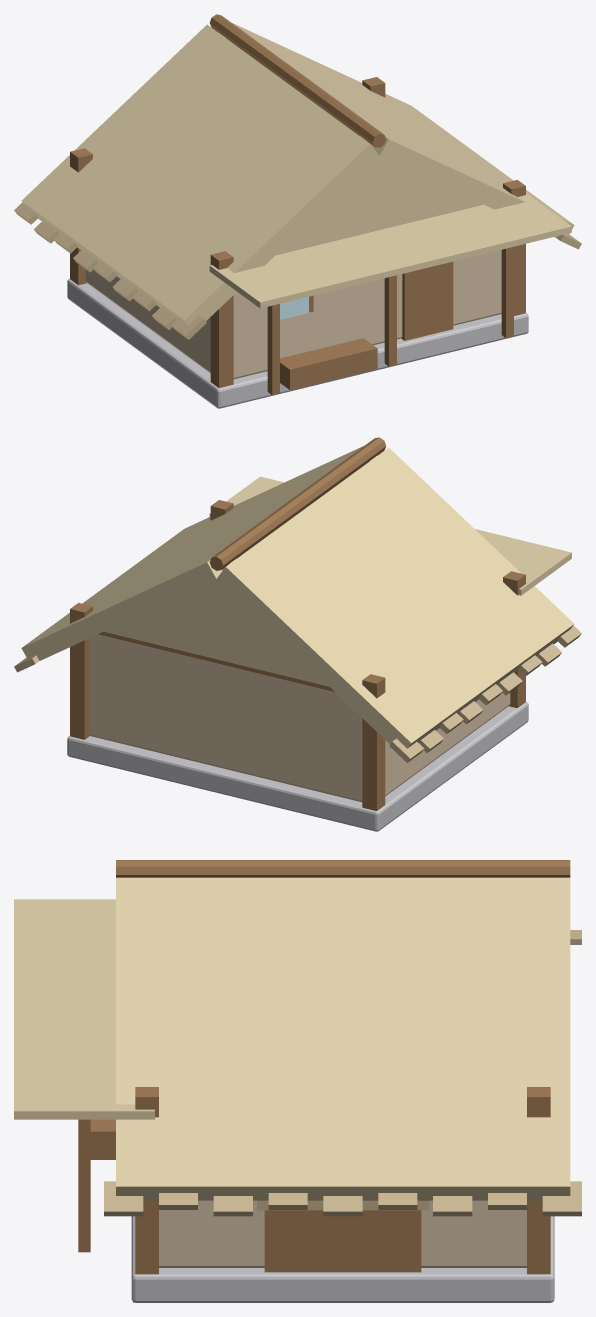
Rendered from ASTX_BUILDING_FARM.glb.
3 views of the same model, one above another, from view 1: azimuth 30°, elevation 25°; view 2: azimuth 150°, elevation 25°; view 3: azimuth 270°, elevation 25° (orthographic). The views are drawn at different scales.
Visible parts, largest first — view 1: ASTX_BUILDING_FARM_thatchL, ASTX_BUILDING_FARM_verRoof, ASTX_BUILDING_FARM_walls, ASTX_BUILDING_FARM_thatchR, ASTX_BUILDING_FARM_base, ASTX_BUILDING_FARM_gableS, ASTX_BUILDING_FARM_door, ASTX_BUILDING_FARM_ridgepole, ASTX_BUILDING_FARM_bench, ASTX_BUILDING_FARM_corner-3.02.5, ASTX_BUILDING_FARM_verPost2.4, ASTX_BUILDING_FARM_verPost0 (+3 smaller); view 2: ASTX_BUILDING_FARM_thatchL, ASTX_BUILDING_FARM_walls, ASTX_BUILDING_FARM_base, ASTX_BUILDING_FARM_thatchR, ASTX_BUILDING_FARM_gableN, ASTX_BUILDING_FARM_ridgepole, ASTX_BUILDING_FARM_verRoof, ASTX_BUILDING_FARM_corner-3.0-2.5, ASTX_BUILDING_FARM_corner3.0-2.5, ASTX_BUILDING_FARM_plateN, ASTX_BUILDING_FARM_corner-3.02.5; view 3: ASTX_BUILDING_FARM_thatchR, ASTX_BUILDING_FARM_verRoof, ASTX_BUILDING_FARM_base, ASTX_BUILDING_FARM_walls, ASTX_BUILDING_FARM_barnDoor, ASTX_BUILDING_FARM_ridgepole, ASTX_BUILDING_FARM_corner3.0-2.5, ASTX_BUILDING_FARM_corner3.02.5, ASTX_BUILDING_FARM_verPost2.4, ASTX_BUILDING_FARM_bench, ASTX_BUILDING_FARM_fringeR0, ASTX_BUILDING_FARM_fringeR8 (+8 smaller).
Boxes of the visible parts, box(x1,y1,x2,y2) form: ASTX_BUILDING_FARM_thatchL: box(21, 24, 379, 325); ASTX_BUILDING_FARM_verRoof: box(209, 193, 571, 308); ASTX_BUILDING_FARM_walls: box(85, 250, 501, 379); ASTX_BUILDING_FARM_thatchR: box(231, 22, 574, 237); ASTX_BUILDING_FARM_base: box(67, 279, 528, 408); ASTX_BUILDING_FARM_gableS: box(275, 136, 483, 255); ASTX_BUILDING_FARM_door: box(401, 261, 453, 340); ASTX_BUILDING_FARM_ridgepole: box(209, 14, 386, 147); ASTX_BUILDING_FARM_bench: box(280, 338, 377, 389); ASTX_BUILDING_FARM_corner-3.02.5: box(210, 251, 233, 387); ASTX_BUILDING_FARM_verPost2.4: box(501, 246, 513, 338); ASTX_BUILDING_FARM_verPost0: box(384, 275, 396, 366); ASTX_BUILDING_FARM_thatchL: box(216, 447, 574, 748); ASTX_BUILDING_FARM_walls: box(89, 634, 510, 802); ASTX_BUILDING_FARM_base: box(67, 702, 528, 831); ASTX_BUILDING_FARM_thatchR: box(21, 445, 364, 660); ASTX_BUILDING_FARM_gableN: box(104, 559, 328, 686); ASTX_BUILDING_FARM_ridgepole: box(209, 437, 386, 570); ASTX_BUILDING_FARM_verRoof: box(209, 476, 571, 595); ASTX_BUILDING_FARM_corner-3.0-2.5: box(362, 674, 385, 810); ASTX_BUILDING_FARM_corner3.0-2.5: box(70, 603, 92, 739); ASTX_BUILDING_FARM_plateN: box(98, 631, 334, 691); ASTX_BUILDING_FARM_corner-3.02.5: box(503, 571, 525, 708); ASTX_BUILDING_FARM_thatchR: box(116, 877, 570, 1200); ASTX_BUILDING_FARM_verRoof: box(14, 899, 154, 1119); ASTX_BUILDING_FARM_base: box(131, 1216, 554, 1302); ASTX_BUILDING_FARM_walls: box(159, 1200, 526, 1267); ASTX_BUILDING_FARM_barnDoor: box(264, 1210, 421, 1272); ASTX_BUILDING_FARM_ridgepole: box(116, 860, 570, 877); ASTX_BUILDING_FARM_corner3.0-2.5: box(527, 1087, 550, 1274); ASTX_BUILDING_FARM_corner3.02.5: box(135, 1087, 158, 1274); ASTX_BUILDING_FARM_verPost2.4: box(78, 1119, 90, 1252); ASTX_BUILDING_FARM_bench: box(90, 1119, 115, 1159); ASTX_BUILDING_FARM_fringeR0: box(542, 1181, 581, 1216); ASTX_BUILDING_FARM_fringeR8: box(104, 1181, 143, 1216).
Bounding box in the file's own units: 8.14 × 4.76 × 7.25.
